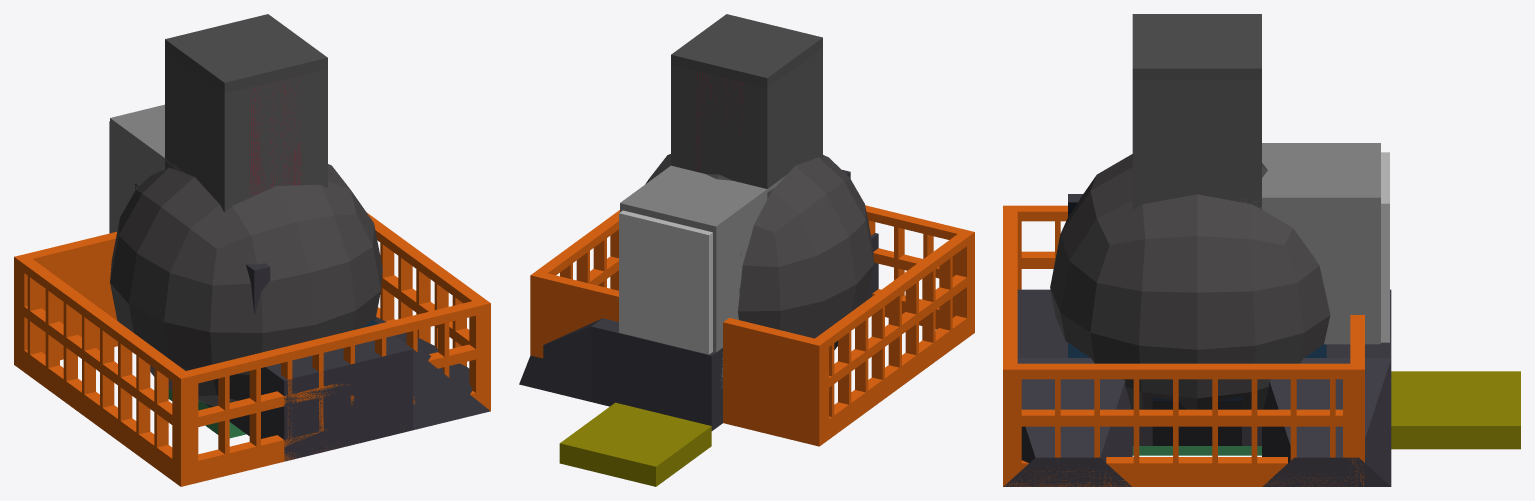
File: space_colony_ship_meshes.glb
3 views of the same model, side by side, from view 1: azimuth 30°, elevation 25°; view 2: azimuth 150°, elevation 25°; view 3: azimuth 270°, elevation 25° (orthographic). The views are drawn at different scales.
Visible parts, largest first — view 1: Pod, operation_console-col, wall_00, roof_00-col; view 2: Pod, wall_00, operation_console-col, roof_00-col; view 3: Pod, operation_console-col, wall_00, roof_00-col, floor_00-col.
Part boxes in pixels (box(x1,y1,x2,y2)): Pod: box(14, 104, 490, 486); operation_console-col: box(135, 183, 490, 461); wall_00: box(165, 50, 327, 407); roof_00-col: box(165, 14, 327, 93); Pod: box(530, 154, 974, 486); wall_00: box(671, 48, 822, 199); operation_console-col: box(519, 170, 878, 430); roof_00-col: box(671, 14, 822, 88); Pod: box(1003, 143, 1520, 486); operation_console-col: box(1003, 194, 1391, 486); wall_00: box(1132, 80, 1261, 209); roof_00-col: box(1132, 14, 1261, 80); floor_00-col: box(1132, 446, 1261, 455).
Size of the model in its own units: 3 by 3.3 by 4.
